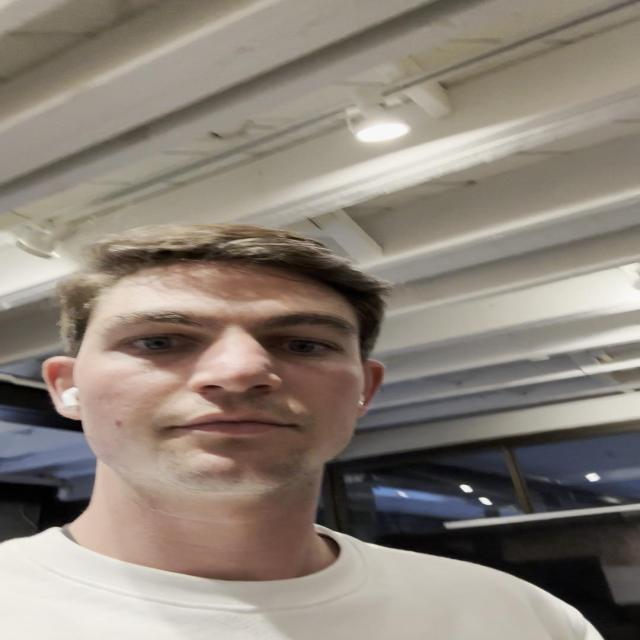no-helmet: (56, 216, 389, 519)
